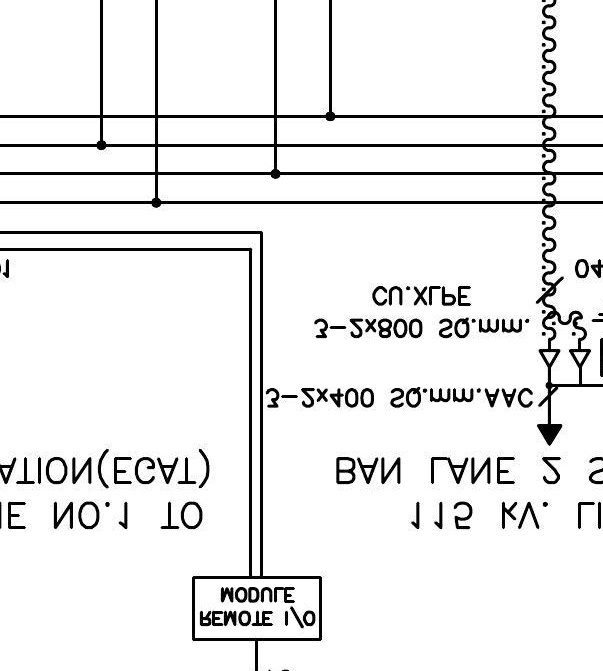remote_io_module: (191, 575, 322, 641)
terminator_double: (537, 348, 592, 388)
